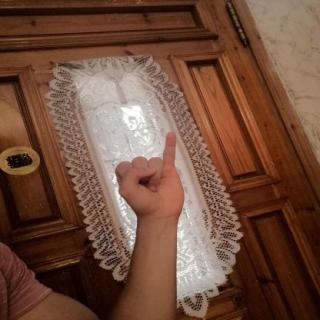MEEM: (99, 127, 200, 226)
